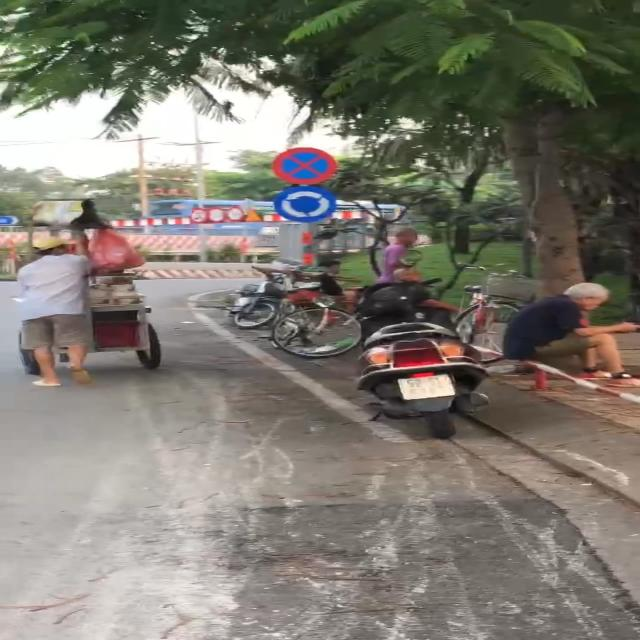Bien bao cam dung xe va do xe: (269, 145, 347, 188)
Bien bao noi giao nhau chay theo vong xuyen: (272, 186, 340, 224)
